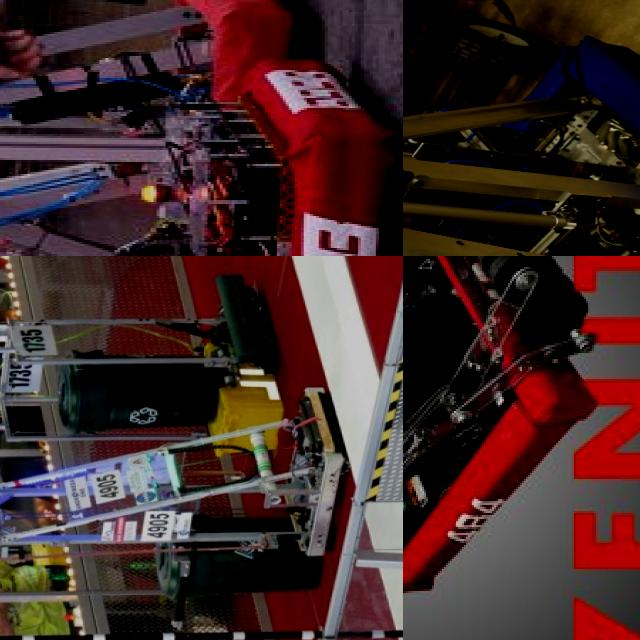FRC-Robots: (0, 20, 403, 256), (403, 256, 640, 628), (403, 0, 640, 256), (0, 422, 360, 568), (0, 261, 276, 422)
